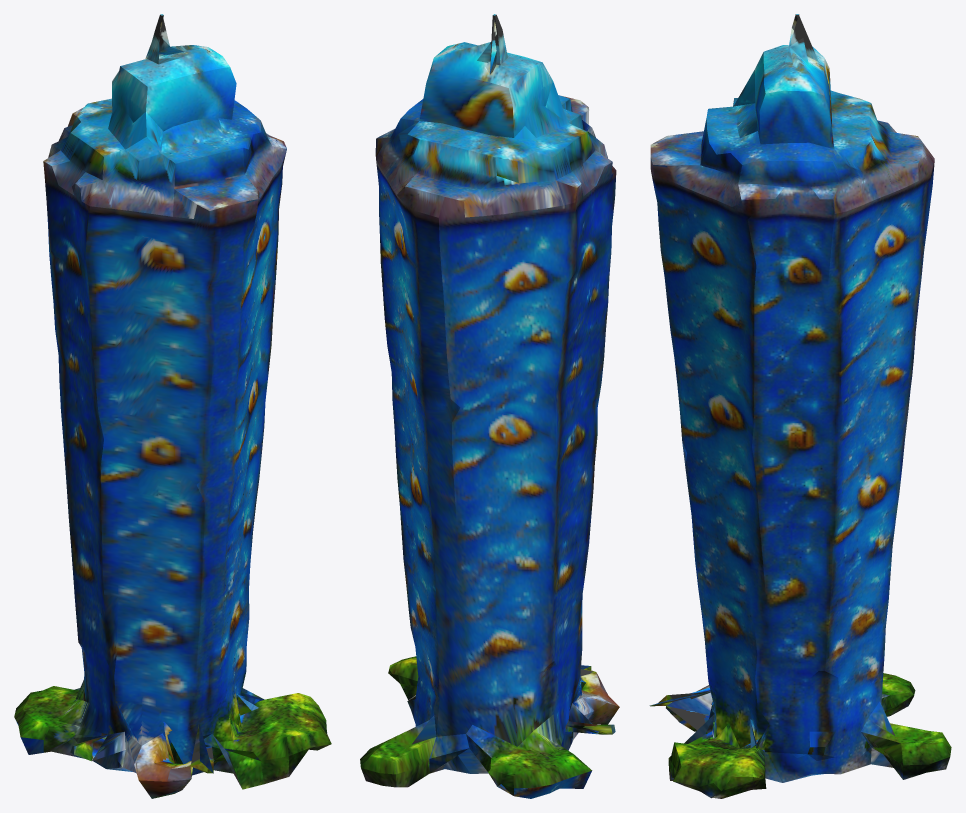
The model's file is trader3.fbx.
3 renders of one model, left to right at view 1: azimuth 30°, elevation 25°; view 2: azimuth 150°, elevation 25°; view 3: azimuth 270°, elevation 25°, orthographic.
Visible parts, largest first — view 1: lp; view 2: lp; view 3: lp.
Part boxes in pixels (x1,y1,x2,y2): lp: [14, 14, 331, 798]; lp: [360, 14, 619, 798]; lp: [649, 14, 951, 798].
Bounding box in the file's own units: 55.93 × 160 × 59.33.
Materials: 1 (1 with a texture image).
